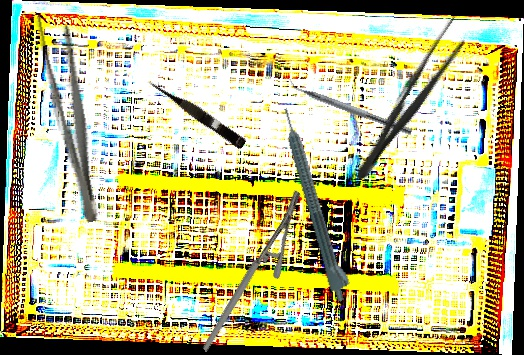Chopper: (284, 74, 416, 136)
Dressing Forceps: (346, 13, 476, 188), (31, 9, 110, 226)
Handpiece: (278, 104, 356, 303)
Micro Scissor: (144, 74, 249, 150)
Needle Holder: (162, 188, 340, 353)
